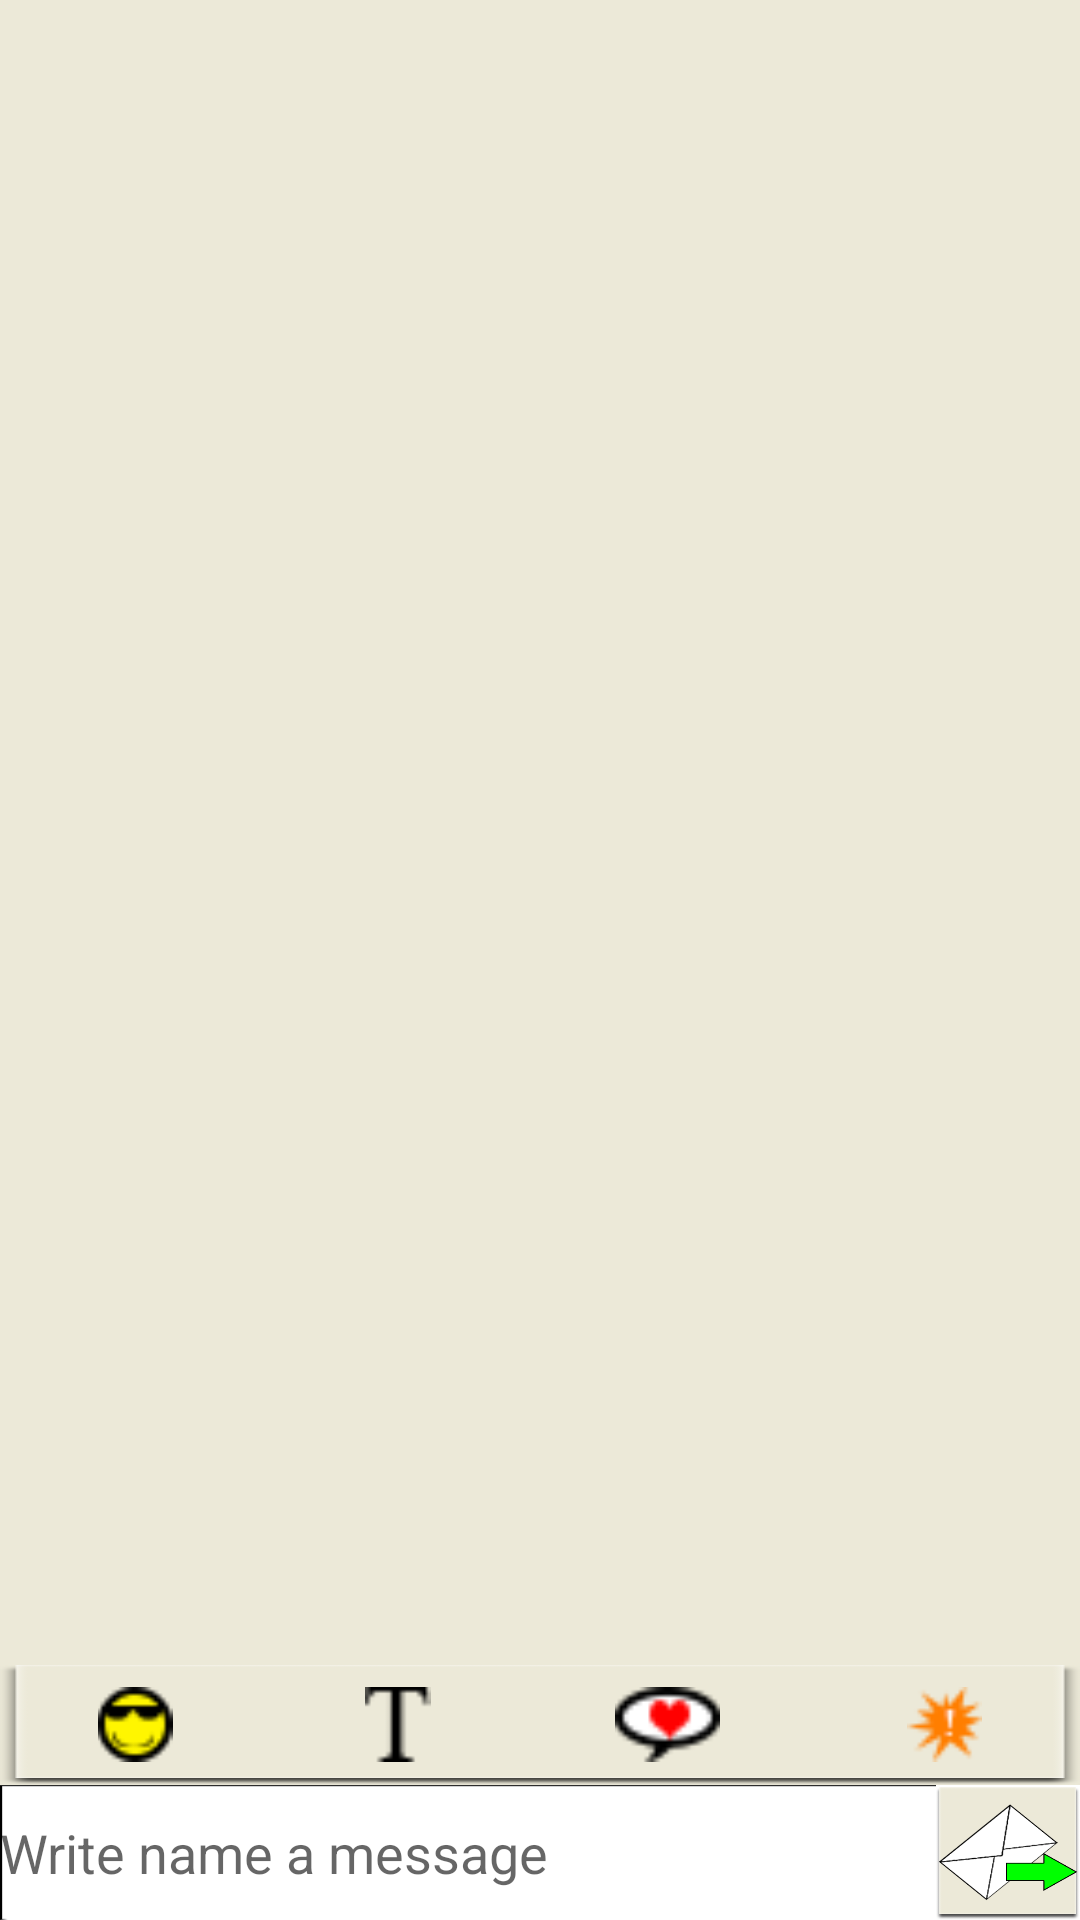

Icon bounding boxes for this 1080*1920 phone screenshot, format region(x1, y1, x2, y2):
buzz: region(907, 1687, 982, 1762)
emoticon: region(98, 1687, 173, 1762)
font: region(365, 1687, 431, 1762)
send: region(938, 1788, 1078, 1918)
sticker: region(615, 1687, 720, 1762)
